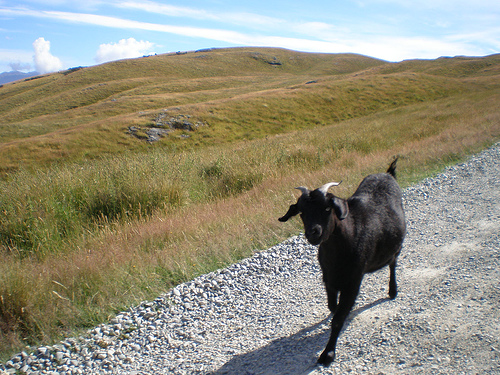goat: (275, 155, 406, 365)
